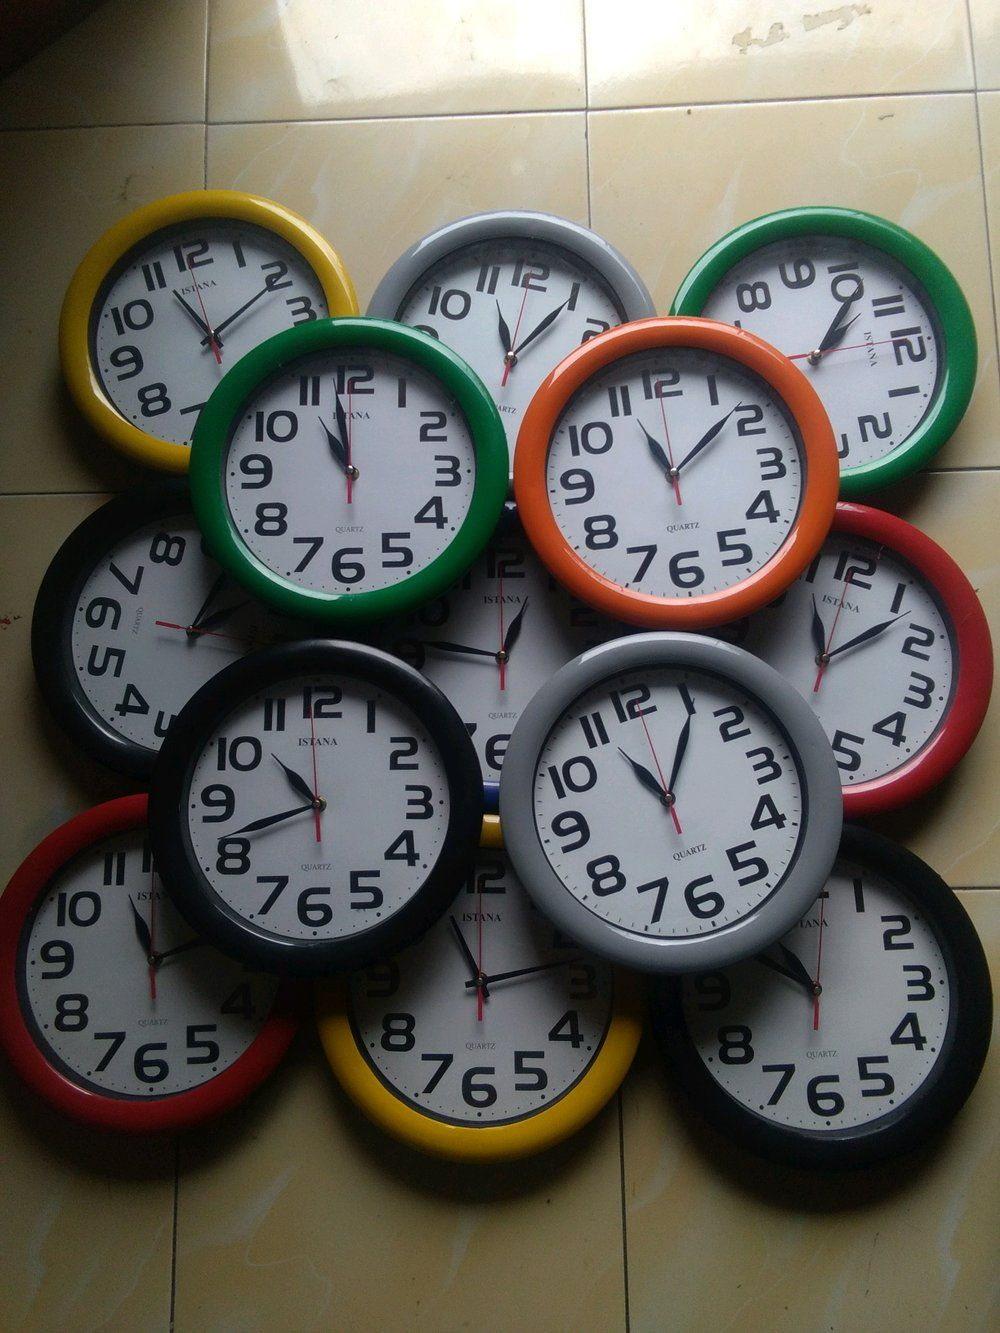jam dinding: (472, 638, 876, 968), (144, 651, 480, 1008), (483, 326, 857, 638), (172, 338, 504, 616)
